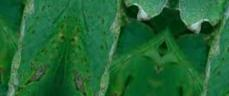Tomato leaf bacterial spot: (43, 0, 159, 96)
